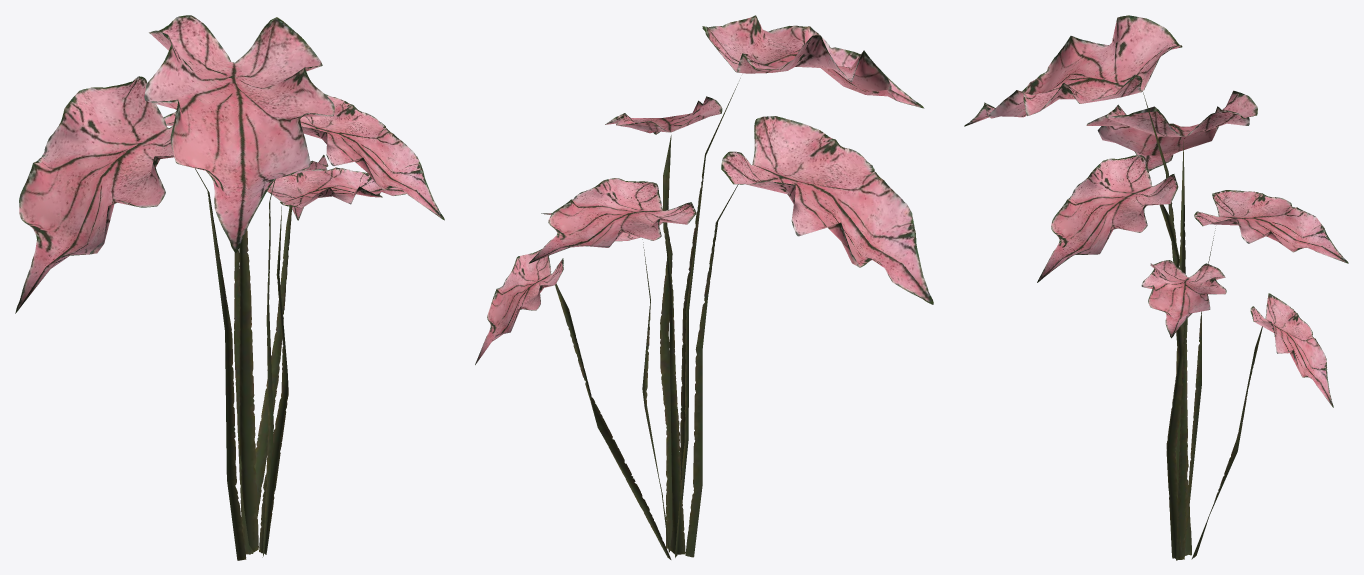
The model's file is pink-plant.lod0.glb.
3 views of the same model, side by side, from view 1: azimuth 30°, elevation 25°; view 2: azimuth 150°, elevation 25°; view 3: azimuth 270°, elevation 25° (orthographic). The views are drawn at different scales.
Visible parts, largest first — view 1: StemA_low_T_PinkLeaf_0; view 2: StemA_low_T_PinkLeaf_0; view 3: StemA_low_T_PinkLeaf_0.
Boxes of the visible parts, x1=… form: StemA_low_T_PinkLeaf_0: x1=15, y1=15, x2=444, y2=560; StemA_low_T_PinkLeaf_0: x1=475, y1=15, x2=933, y2=559; StemA_low_T_PinkLeaf_0: x1=964, y1=15, x2=1348, y2=560.
Bounding box in the file's own units: 0.9092 × 1.2 × 0.849.
Materials: 1 (1 with a texture image).
